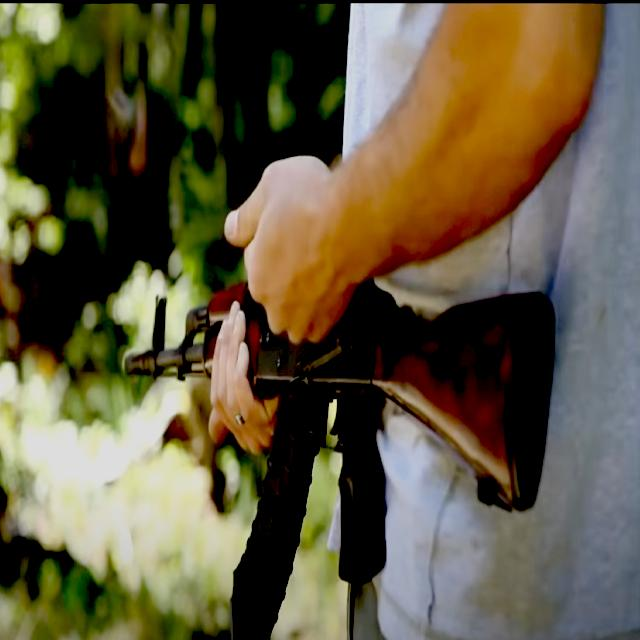ak: (120, 225, 566, 640)
